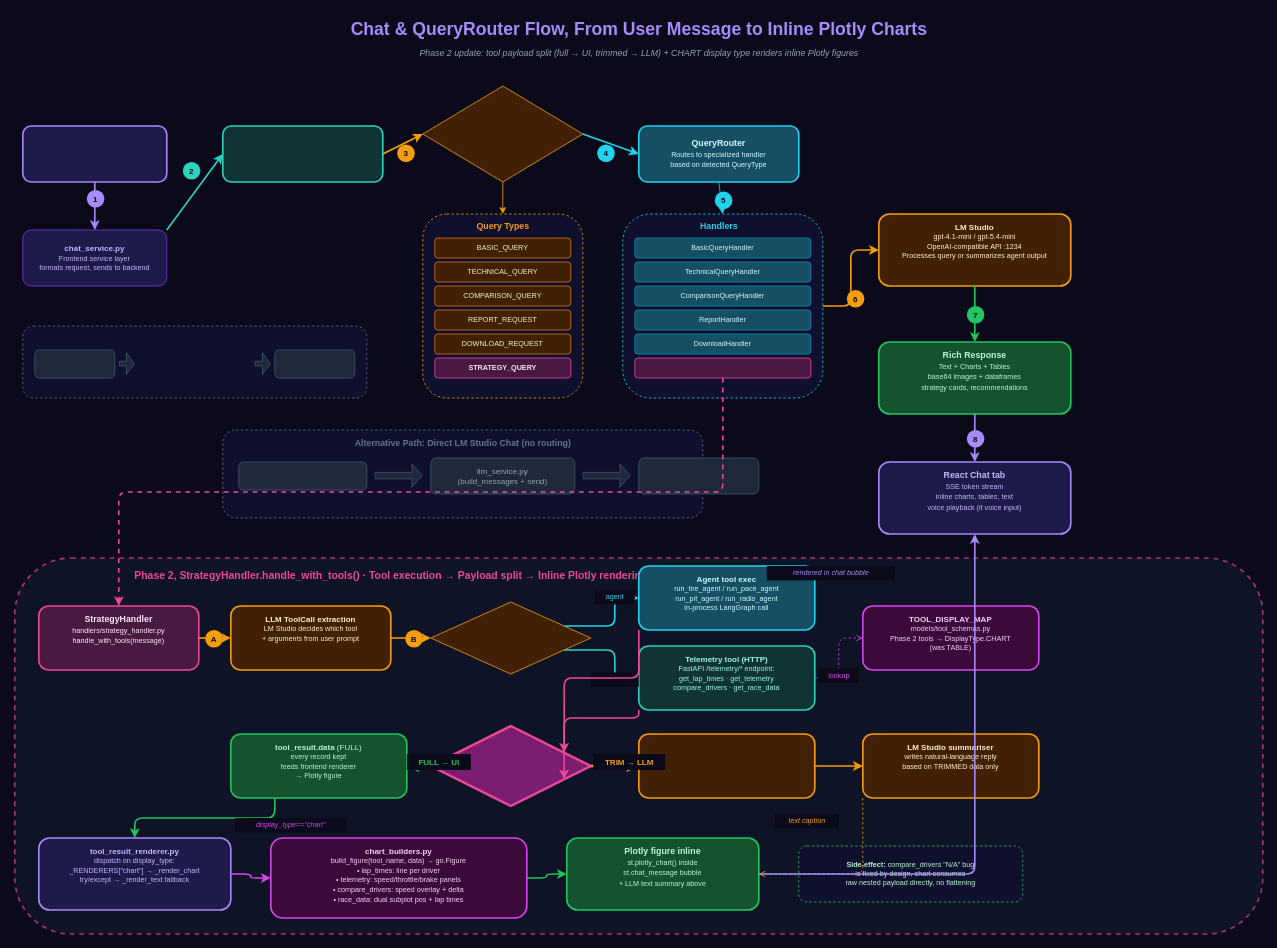
This 1277x948 diagram has some shape labels left out. The box of each missing label's shape, as (x1, y1, x2, y2) in pixels:
_trim_for_llm (TRIM) cap 20 records feeds LLM summariser → short text answer: (638, 733, 815, 798)
Audio recording: (34, 349, 115, 378)
LM Studio :1234 (raw completion): (638, 457, 759, 494)
Payload split raw response: (429, 724, 592, 807)
POST /api/v1/chat/query Main intelligent endpoint (also: /message, /stream): (222, 125, 383, 182)
POST /chat/message: (238, 461, 367, 490)
QueryClassifier LLM-based classification Detects query type from message: (422, 85, 583, 182)
StrategyHandler (N25-N31): (634, 357, 811, 378)
telemetry: (590, 672, 638, 686)
text → /chat/query: (274, 349, 355, 378)
Tool dispatcher agent tool vs. telemetry tool: (430, 601, 591, 674)
User Message Text from the React chat tab: (22, 125, 167, 182)
